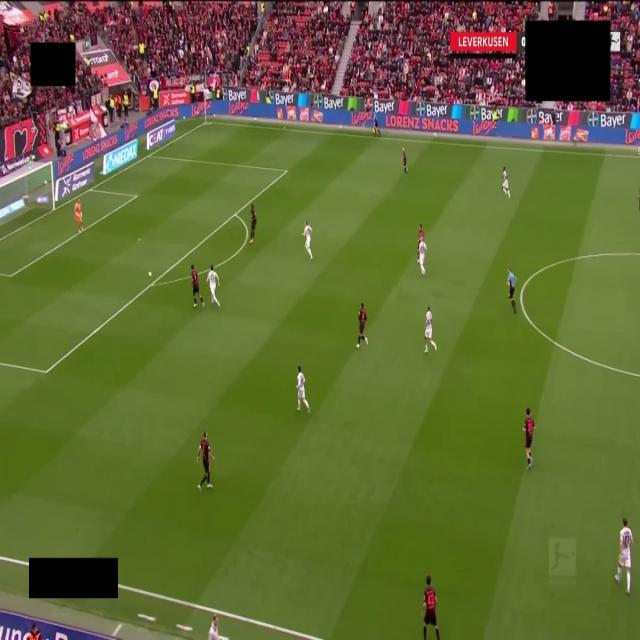ball: (148, 271, 152, 277)
player: (616, 518, 632, 594), (422, 576, 439, 639), (197, 432, 214, 491), (523, 408, 534, 470), (191, 264, 204, 308), (297, 367, 309, 412), (425, 306, 436, 352), (208, 265, 220, 307), (357, 304, 367, 348), (303, 222, 312, 259), (74, 200, 83, 232), (418, 240, 426, 275), (502, 167, 510, 198), (250, 204, 256, 244), (402, 147, 407, 175), (418, 225, 424, 244)
referee: (508, 268, 516, 312)
